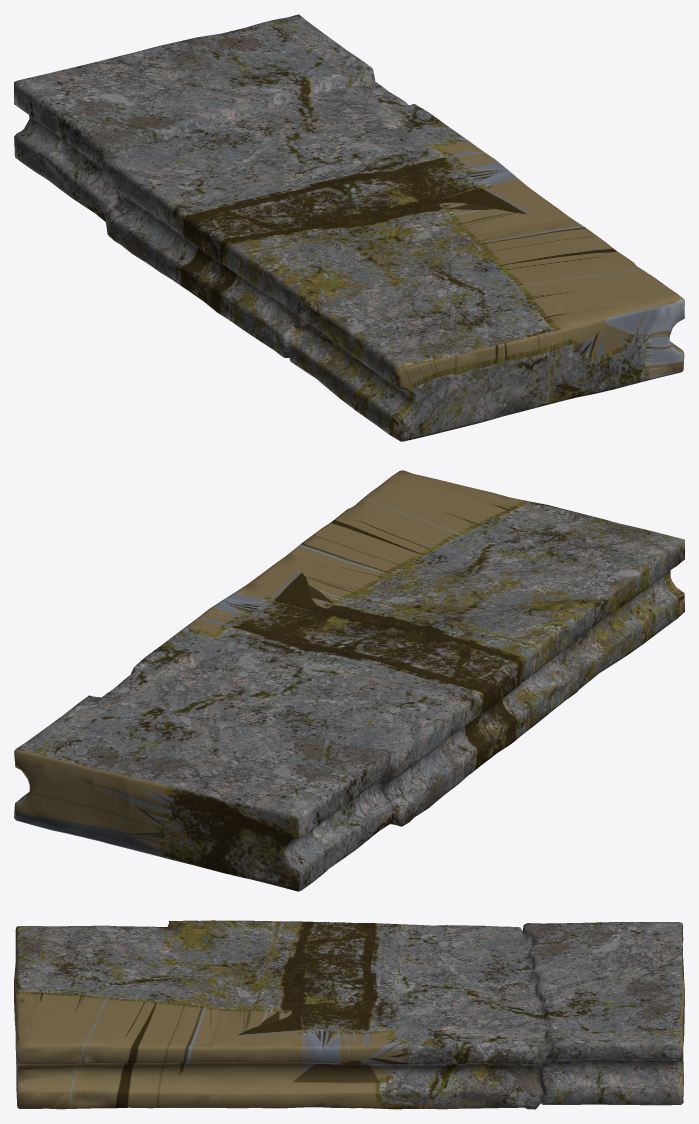
File: SM_StonePlate_B.fbx
3 renders of one model, top to bottom at view 1: azimuth 30°, elevation 25°; view 2: azimuth 150°, elevation 25°; view 3: azimuth 270°, elevation 25°, orthographic. The views are drawn at different scales.
Parts seen in each view (by area): view 1: SM_StonePlate_B_LOD0; view 2: SM_StonePlate_B_LOD0; view 3: SM_StonePlate_B_LOD0.
Boxes of the visible parts, left/top/right/bottom form: SM_StonePlate_B_LOD0: left=14, top=14, right=684, bottom=441; SM_StonePlate_B_LOD0: left=14, top=470, right=684, bottom=891; SM_StonePlate_B_LOD0: left=14, top=920, right=684, bottom=1109.
Bounding box in the file's own units: 385 × 880 × 105.
